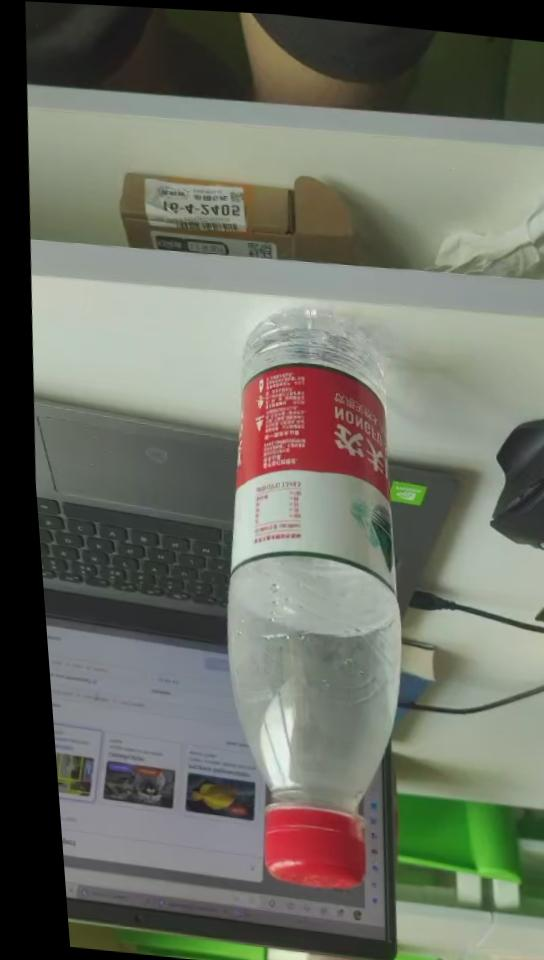plastic: (228, 305, 400, 939)
